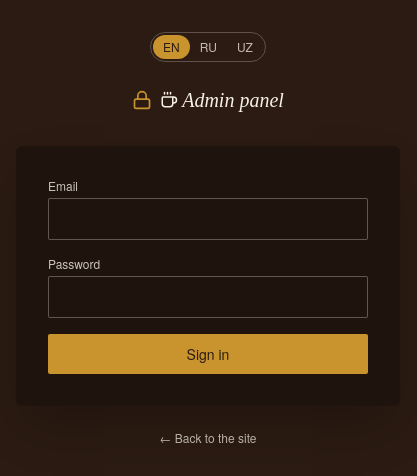
Test: Admin login with a real backend › asks for an email, hides the demo hint and explains each kind of failure
Type "owner@cafe.uz" into the field labelled "Email" at (208, 219), box [48,198,368,240]
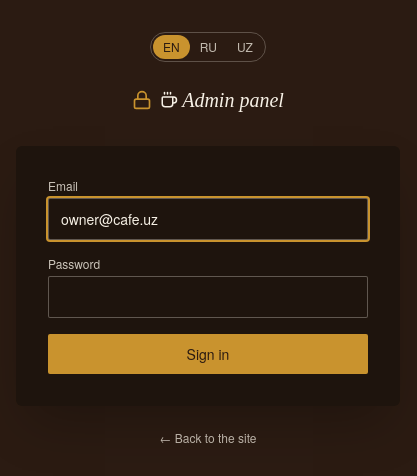
Type "secret" into the password field labelled "Password" at (208, 297), box [48,276,368,318]
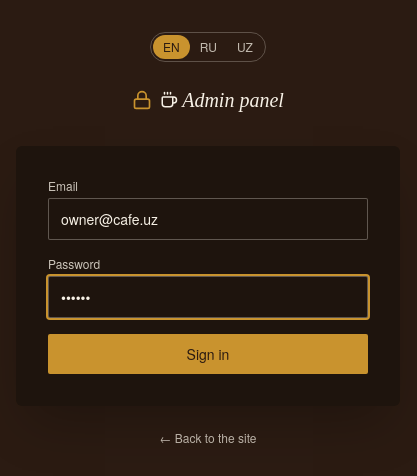
Click the button "Sign in" at (208, 354), box [48,334,368,374]
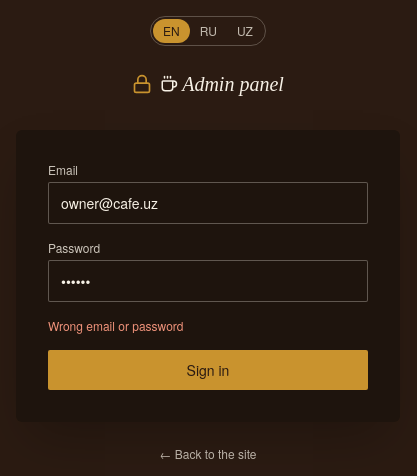
Expected: the message reads "Wrong email or password", [48,317,184,334]
Click the button "Sign in" at (208, 370), box [48,350,368,390]
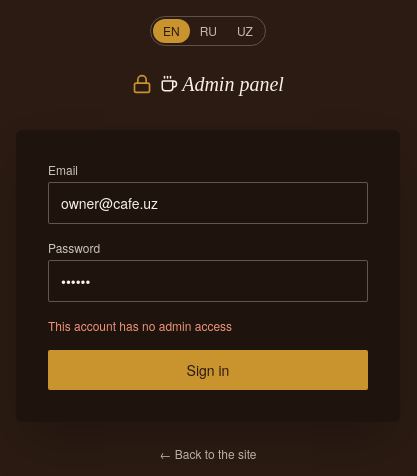
Expected: the message reads "This account has no admin access", [48,317,232,334]
Click the button "Sign in" at (208, 370), box [48,350,368,390]
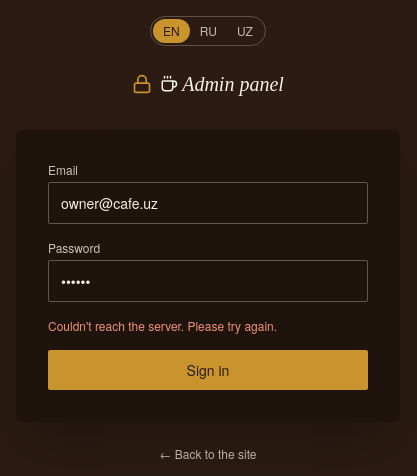
Expected: the message shows "Couldn't reach the server", [48,317,277,334]
